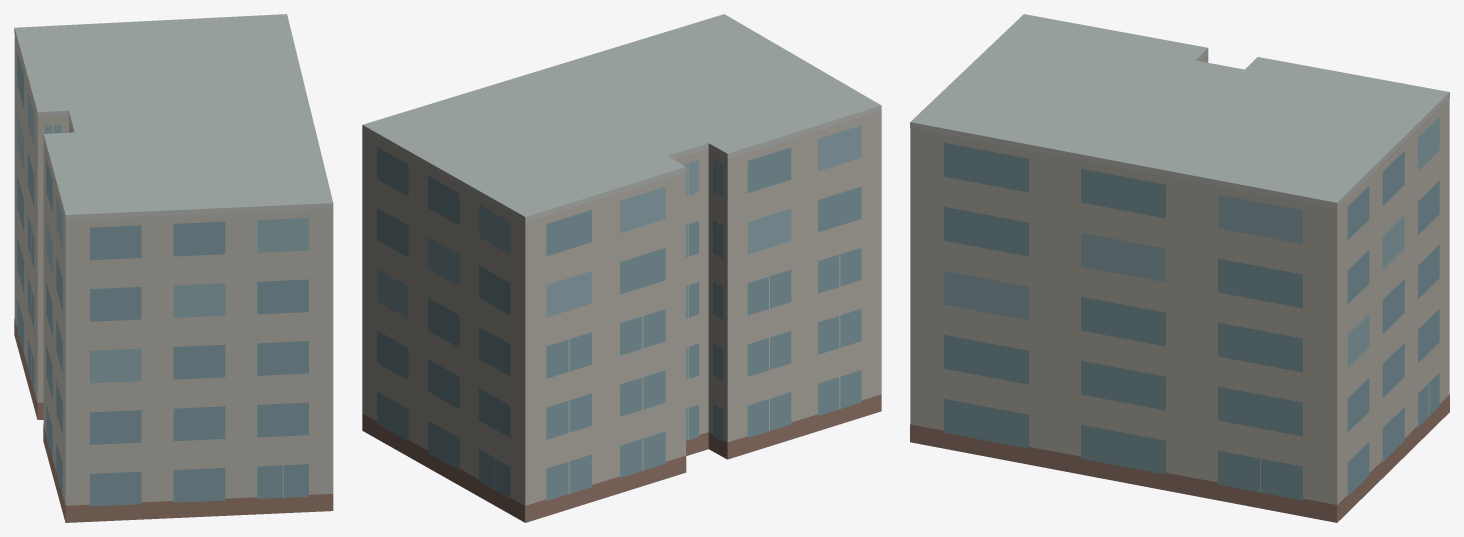
File: survey-upis-32669267.glb
The picture shows the model from 3 angles, left to right: view 1: azimuth 30°, elevation 25°; view 2: azimuth 150°, elevation 25°; view 3: azimuth 270°, elevation 25°; orthographic projection. The views are drawn at different scales.
Visible parts, largest first — view 1: survey-upis-32669267.tmp; view 2: survey-upis-32669267.tmp; view 3: survey-upis-32669267.tmp.
Boxes of the visible parts, x1,y1,x2,y2 form: survey-upis-32669267.tmp: (14,14,333,522); survey-upis-32669267.tmp: (362,14,881,522); survey-upis-32669267.tmp: (910,14,1449,522).
Size of the model in its own units: 17.84 by 14.1 by 21.55.
